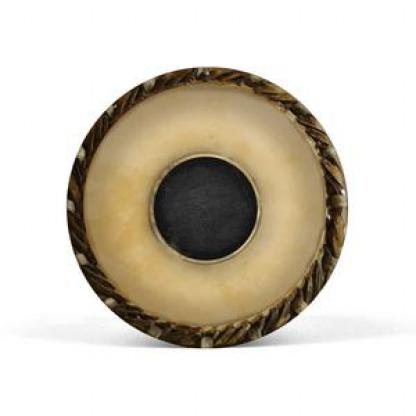Mridangam: (60, 52, 362, 352)
